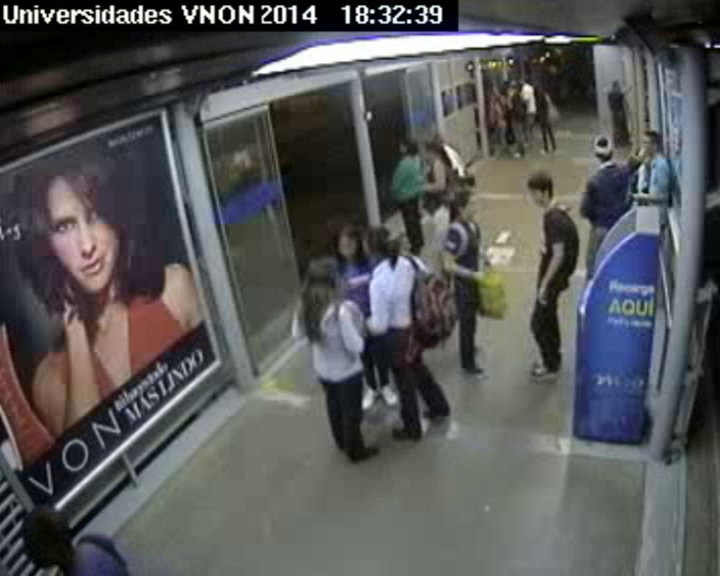person: (15, 505, 75, 568), (360, 221, 402, 263), (302, 256, 340, 301), (523, 170, 562, 211), (332, 224, 365, 263), (449, 187, 481, 224), (590, 134, 618, 164), (640, 128, 665, 156), (419, 138, 445, 164), (396, 136, 418, 159), (497, 81, 511, 96), (609, 80, 621, 93), (508, 81, 519, 95), (533, 84, 544, 95), (526, 76, 532, 85)
